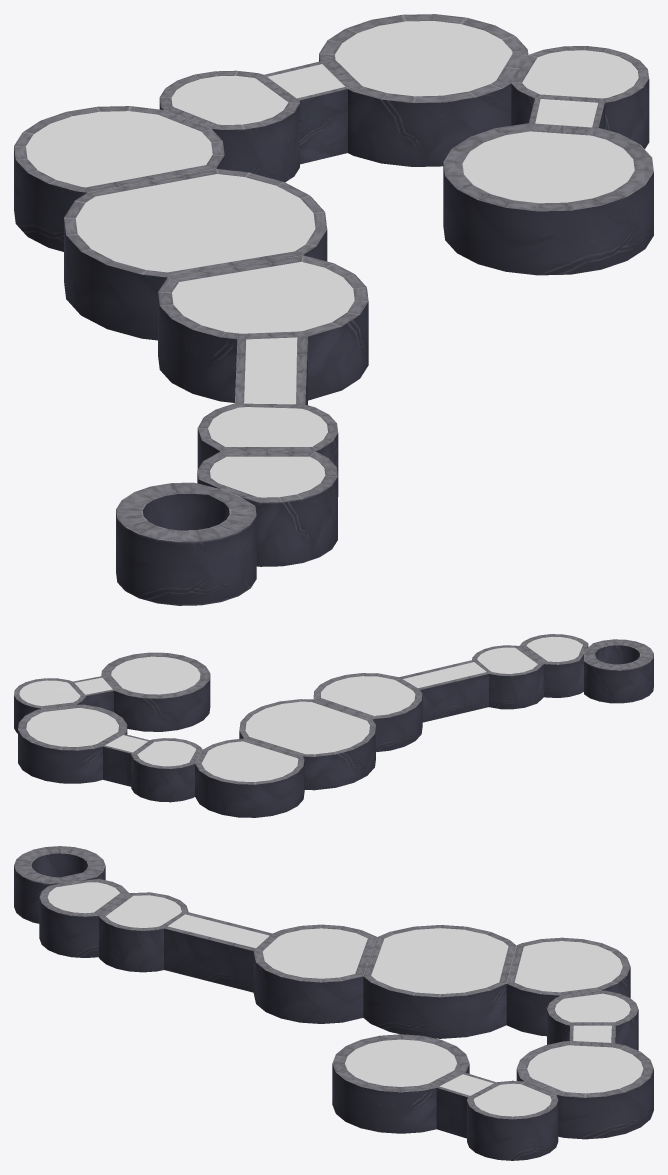
The model's file is Scorpio_std_FloorStart.fbx.
3 renders of one model, top to bottom at view 1: azimuth 30°, elevation 25°; view 2: azimuth 150°, elevation 25°; view 3: azimuth 270°, elevation 25°, orthographic. The views are drawn at different scales.
Parts seen in each view (by area): view 1: Scorpio_std_FloorStart; view 2: Scorpio_std_FloorStart; view 3: Scorpio_std_FloorStart.
Boxes of the visible parts, x1,y1,x2,y2 form: Scorpio_std_FloorStart: [14, 14, 653, 605]; Scorpio_std_FloorStart: [14, 634, 653, 817]; Scorpio_std_FloorStart: [14, 846, 653, 1160].
Size of the model in its own units: 5653 by 411 by 5593.
